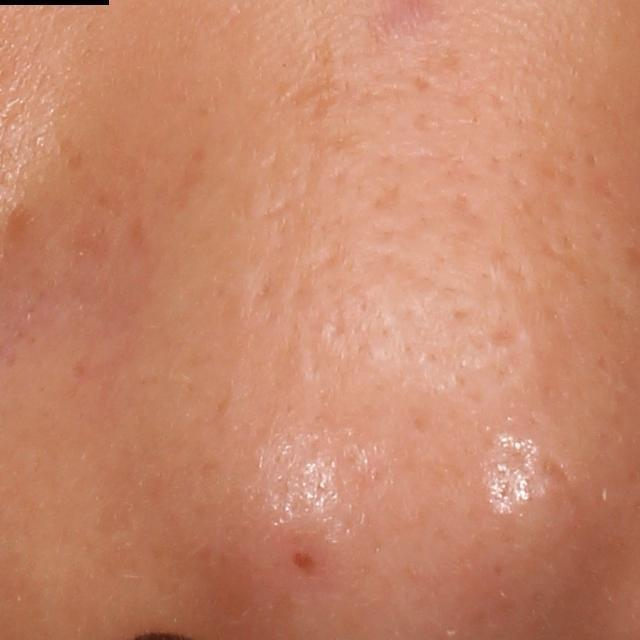atrophic_scar: (273, 37, 348, 138), (251, 258, 294, 321), (484, 318, 529, 360)
